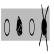correct: (16, 15, 23, 37)
not correct: (39, 2, 49, 52)
